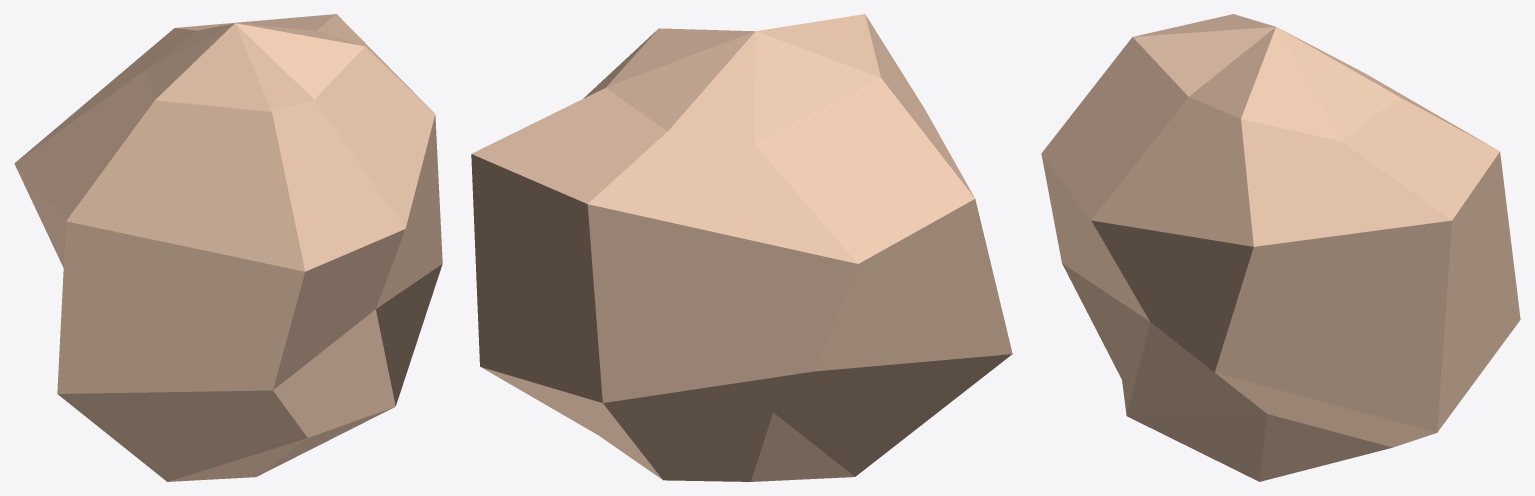
The model's file is rock1.fbx.
3 views of the same model, side by side, from view 1: azimuth 30°, elevation 25°; view 2: azimuth 150°, elevation 25°; view 3: azimuth 270°, elevation 25° (orthographic). The views are drawn at different scales.
Visible parts, largest first — view 1: Landscape; view 2: Landscape; view 3: Landscape.
Part boxes in pixels (bbox=[...]): Landscape: bbox=[14, 14, 442, 481]; Landscape: bbox=[471, 14, 1012, 481]; Landscape: bbox=[1041, 14, 1520, 481].
Size of the model in its own units: 198 by 211 by 204.
